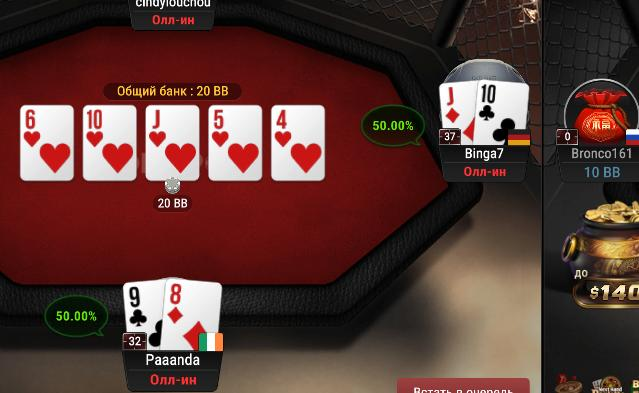10c: (475, 81, 528, 145)
10h: (83, 106, 136, 180)
4h: (272, 105, 324, 181)
5h: (209, 106, 262, 181)
6h: (21, 106, 73, 180)
8d: (163, 278, 222, 351)
9c: (122, 281, 164, 349)
Jd: (439, 83, 476, 144)
Jh: (147, 105, 199, 182)
